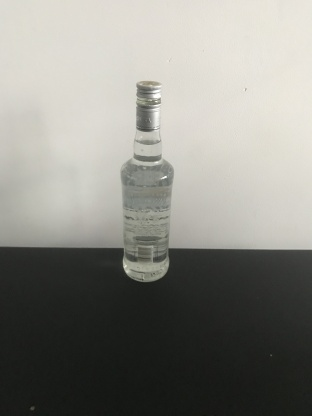nakretka: (135, 79, 162, 132)
